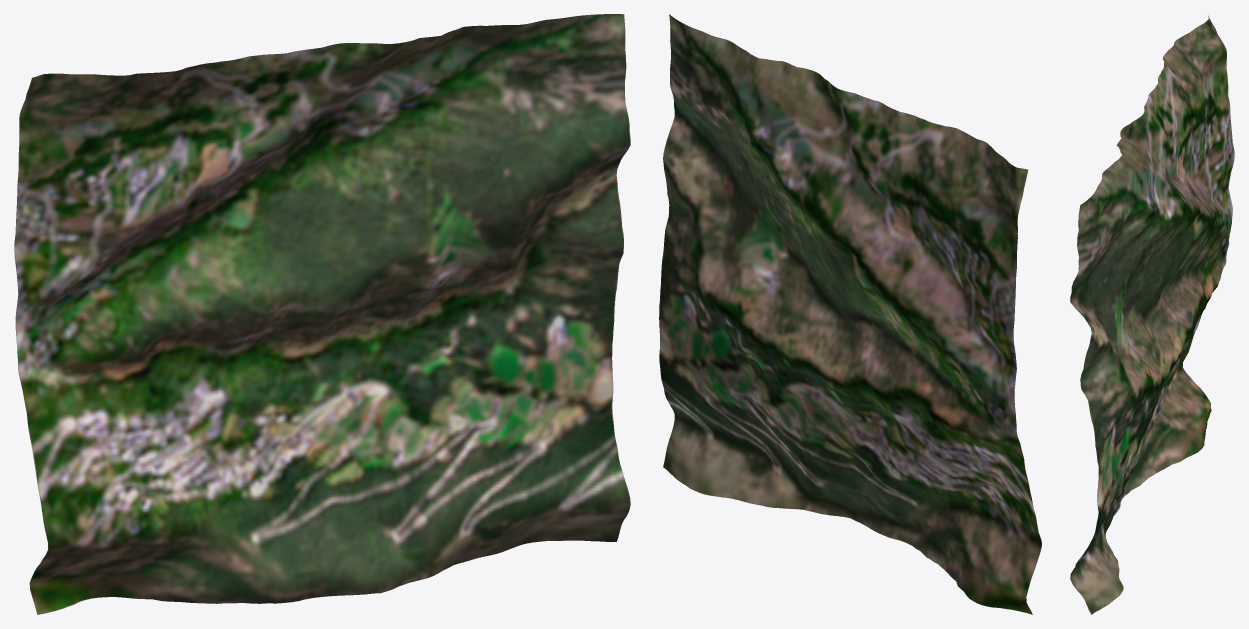
The model's file is ground_far_02_00.obj.
The picture shows the model from 3 angles, left to right: view 1: azimuth 30°, elevation 25°; view 2: azimuth 150°, elevation 25°; view 3: azimuth 270°, elevation 25°; orthographic projection. The views are drawn at different scales.
Visible parts, largest first — view 1: ground_far_02_00; view 2: ground_far_02_00; view 3: ground_far_02_00.
Part boxes in pixels (x1=…): ground_far_02_00: x1=14, y1=14, x2=630, y2=614; ground_far_02_00: x1=659, y1=14, x2=1041, y2=614; ground_far_02_00: x1=1070, y1=15, x2=1234, y2=614.
Bounding box in the file's own units: 2000 × 2000 × 727.
1 material, 1 textured.
